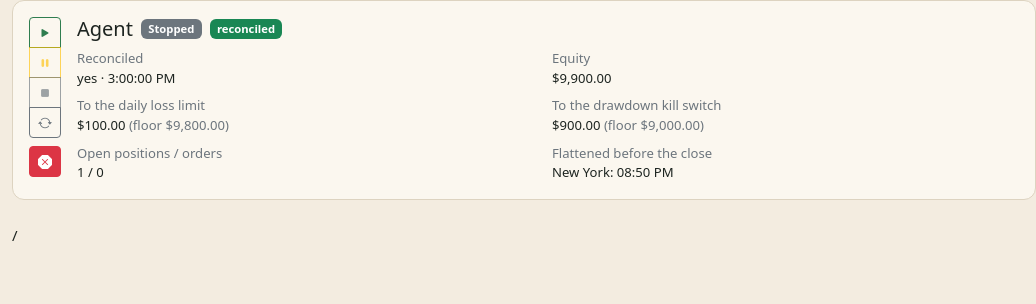
Test: AgentPanel › starts the agent and shows the server's refusal
Click the button named "Start the agent": (45, 32) [29,17,61,48]
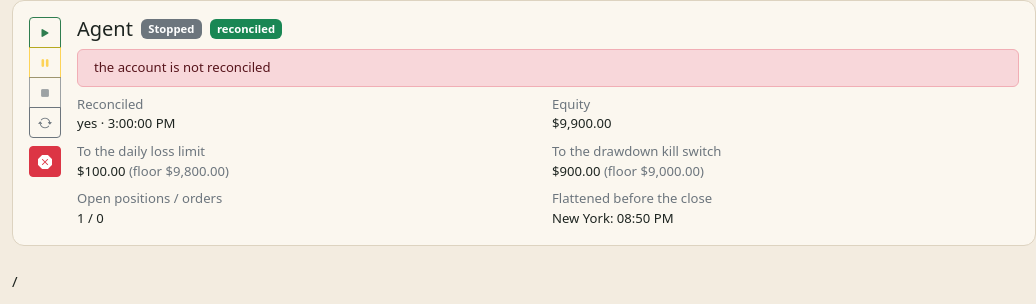
expect the text "the account is not reconciled" is shown: met, box [94,58,270,76]
